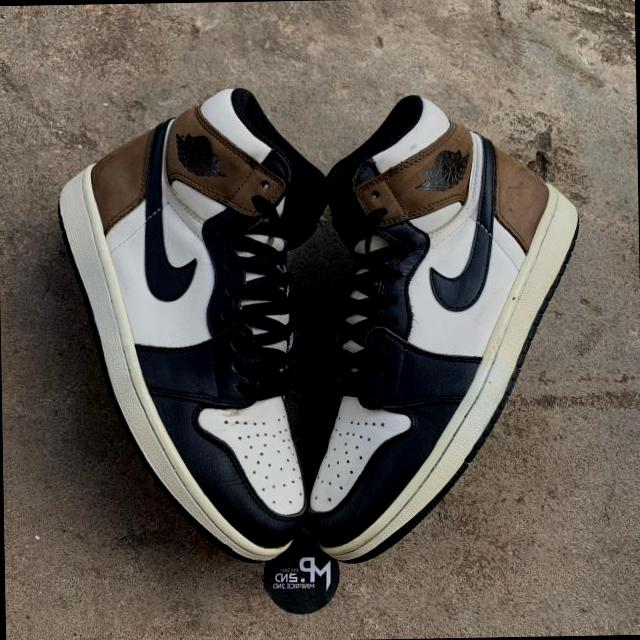nike_original_jordan: (53, 85, 336, 570), (297, 90, 586, 564)
